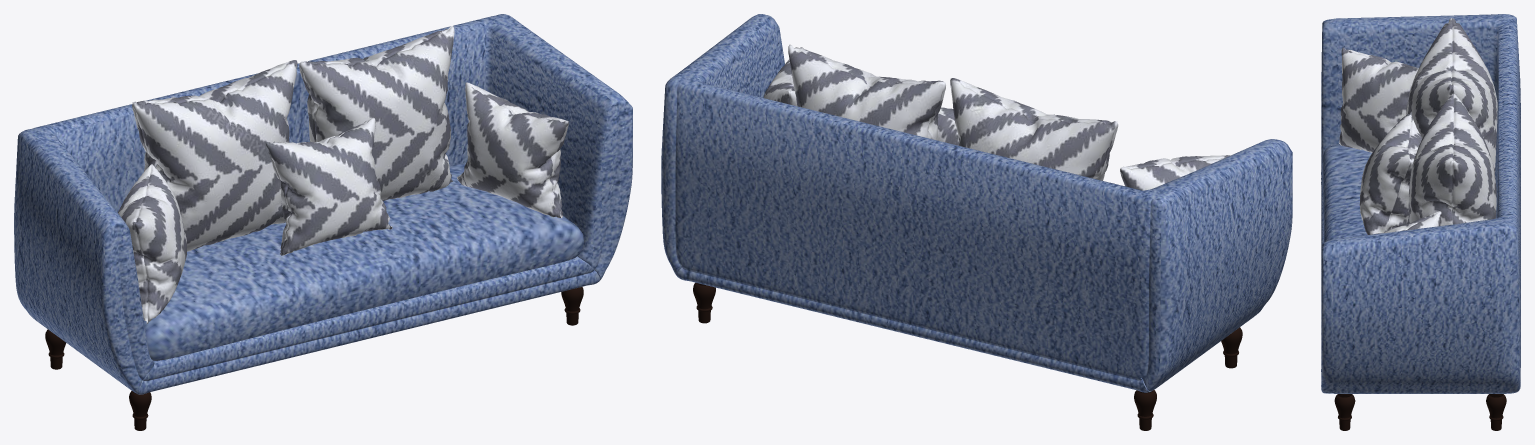
The picture shows the model from 3 angles, left to right: view 1: azimuth 30°, elevation 25°; view 2: azimuth 150°, elevation 25°; view 3: azimuth 270°, elevation 25°; orthographic projection. The views are drawn at different scales.
Parts seen in each view (by area): view 1: couch, pillow_02_geo, seat, Legs_02_geo; view 2: couch, pillow_02_geo, Legs_02_geo; view 3: couch, pillow_02_geo, seat, Legs_02_geo.
Part boxes in pixels (left/top/right/bottom): couch: left=14, top=14, right=632, bottom=394; pillow_02_geo: left=118, top=26, right=568, bottom=323; seat: left=144, top=162, right=583, bottom=360; Legs_02_geo: left=45, top=287, right=583, bottom=430; couch: left=661, top=14, right=1292, bottom=392; pillow_02_geo: left=763, top=44, right=1229, bottom=190; Legs_02_geo: left=693, top=282, right=1242, bottom=430; couch: left=1321, top=14, right=1520, bottom=393; pillow_02_geo: left=1339, top=18, right=1497, bottom=234; seat: left=1322, top=145, right=1371, bottom=242; Legs_02_geo: left=1334, top=394, right=1506, bottom=430.
Bounding box in the file's own units: 2.09 × 1.03 × 0.7535.
4 materials, 3 textured.
